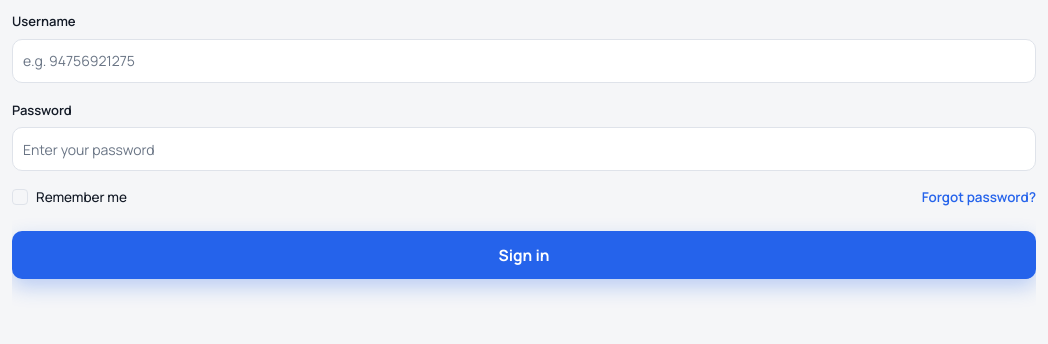
it: LoginForm › shows an invalid-credentials message on 401 and does not redirect
In the field with test id "login-form-username": [524, 60] box top-left (12, 38), bottom-right (1036, 82), type "u"
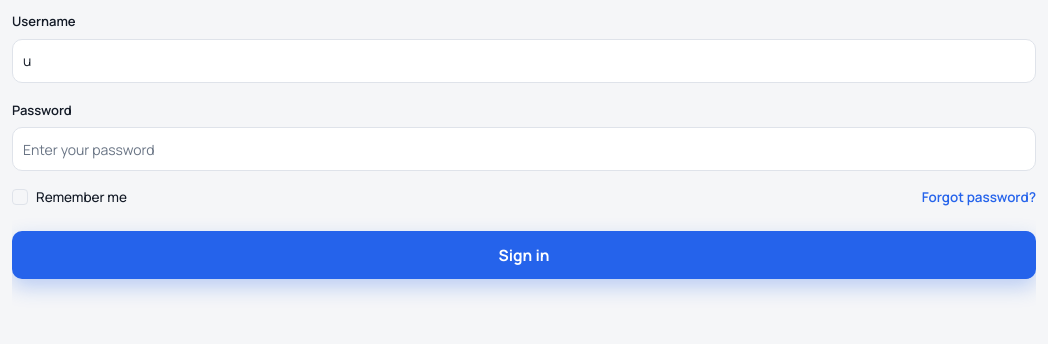
In the password field with test id "login-form-password": [524, 149] box top-left (12, 127), bottom-right (1036, 171), type "bad"
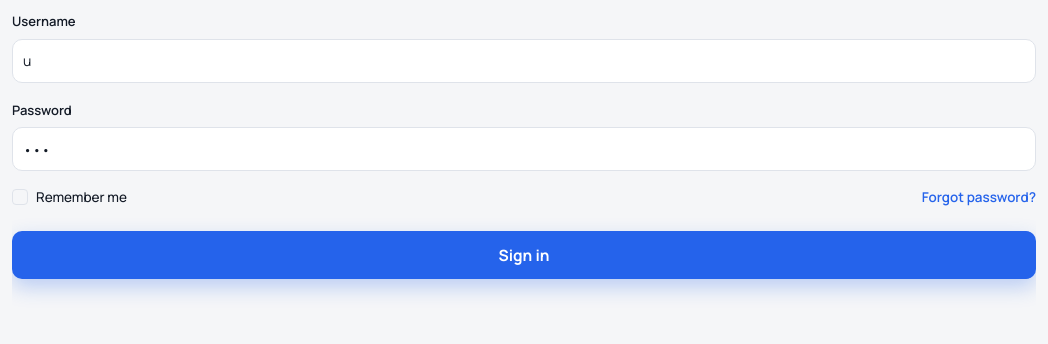
Submit the form
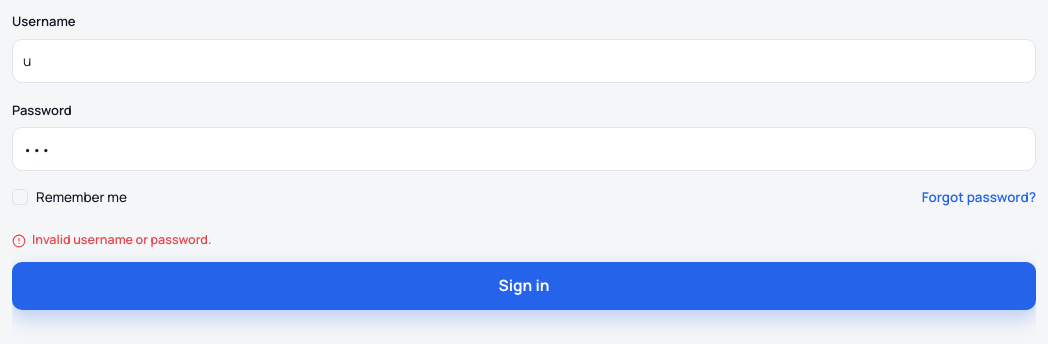
Check: the element with test id "login-form-error" reads "Invalid username or password.", box top-left (32, 231), bottom-right (212, 248)
